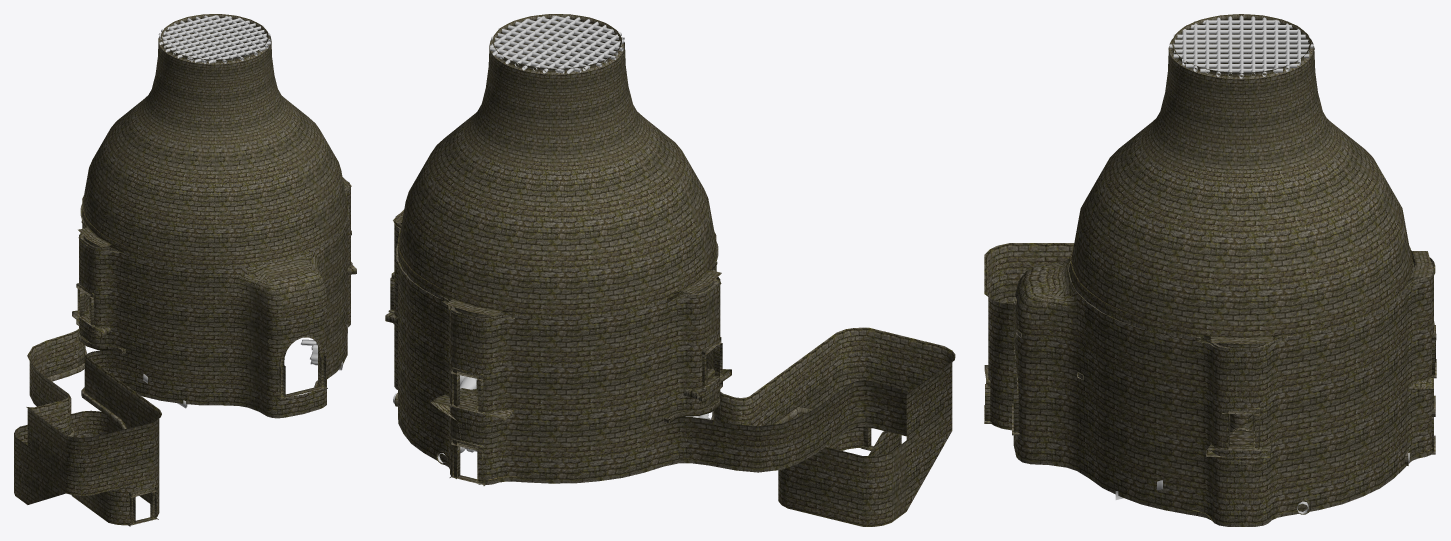
File: cisternentr_levelbase.dae
The picture shows the model from 3 angles, left to right: view 1: azimuth 30°, elevation 25°; view 2: azimuth 150°, elevation 25°; view 3: azimuth 270°, elevation 25°; orthographic projection. The views are drawn at different scales.
Visible parts, largest first — view 1: polySurface715, polySurface579; view 2: polySurface715, polySurface579; view 3: polySurface715, polySurface579.
Part boxes in pixels (<box>): polySurface715: <box>14,14,356,526</box>; polySurface579: <box>158,15,270,63</box>; polySurface715: <box>385,14,955,526</box>; polySurface579: <box>490,15,624,73</box>; polySurface715: <box>984,14,1436,526</box>; polySurface579: <box>1169,15,1313,78</box>.
Bounding box in the file's own units: 39.51 × 37.54 × 32.14.
